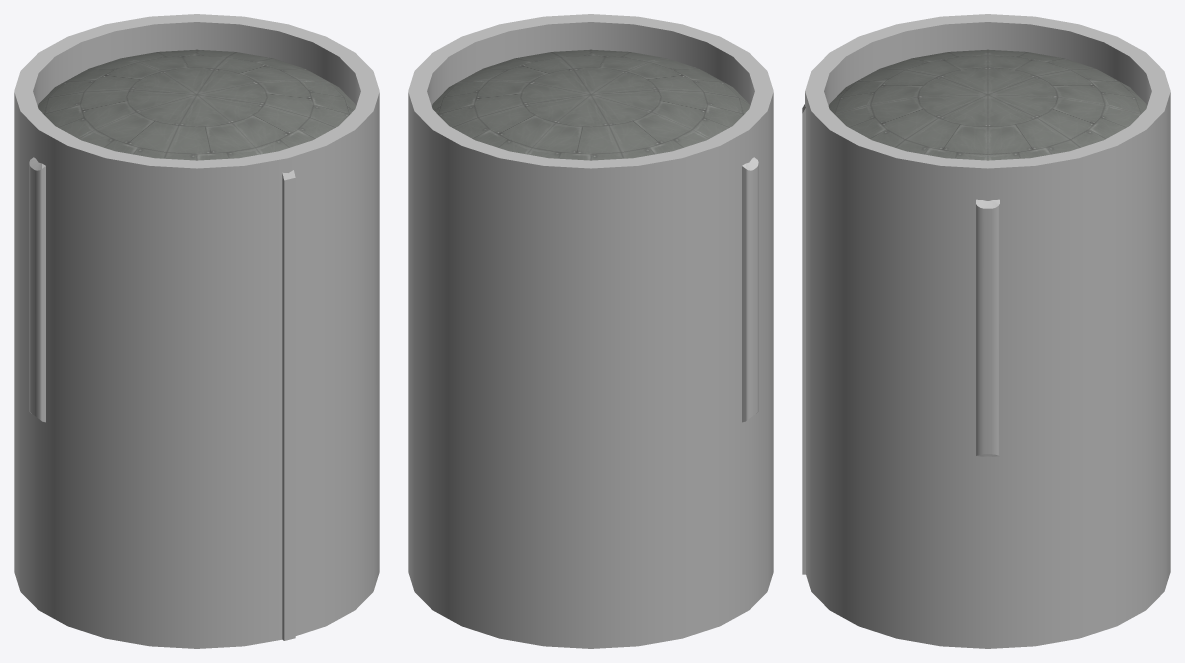
Rendered from Saturn_S4B_Tankage.dae.
3 views of the same model, side by side, from view 1: azimuth 30°, elevation 25°; view 2: azimuth 150°, elevation 25°; view 3: azimuth 270°, elevation 25° (orthographic).
Parts seen in each view (by area): view 1: S4B_FuelTank_Merged_group139, S4B_FuelTank_Merged_TankTopper2; view 2: S4B_FuelTank_Merged_group139, S4B_FuelTank_Merged_TankTopper2; view 3: S4B_FuelTank_Merged_group139, S4B_FuelTank_Merged_TankTopper2.
Part boxes in pixels (<box>): S4B_FuelTank_Merged_group139: <box>14,14,379,648</box>; S4B_FuelTank_Merged_TankTopper2: <box>38,49,355,160</box>; S4B_FuelTank_Merged_group139: <box>408,14,773,648</box>; S4B_FuelTank_Merged_TankTopper2: <box>432,49,749,160</box>; S4B_FuelTank_Merged_group139: <box>802,14,1170,648</box>; S4B_FuelTank_Merged_TankTopper2: <box>828,49,1146,160</box>.
Size of what is drawn, in the model's own units: 3.89 by 5.44 by 3.78.
